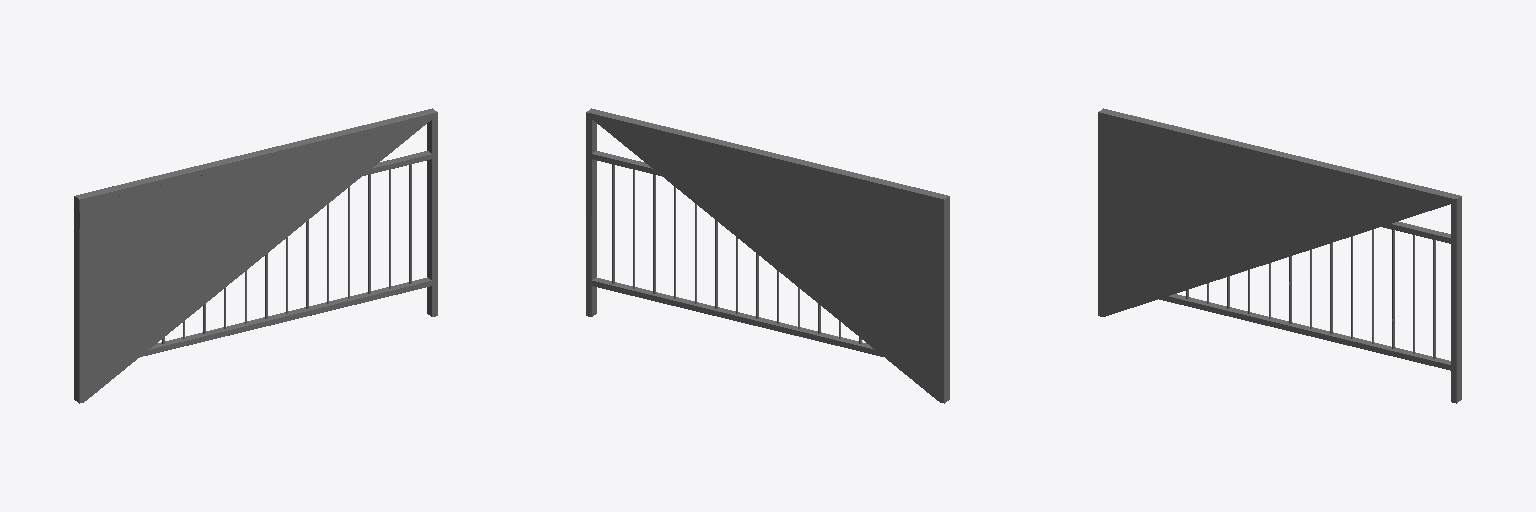
The model's file is pedestrianRailing2.obj.
3 renders of one model, left to right at view 1: azimuth 30°, elevation 25°; view 2: azimuth 150°, elevation 25°; view 3: azimuth 330°, elevation 25°, orthographic.
Visible parts, largest first — view 1: Railings_M2_Cube.028; view 2: Railings_M2_Cube.028; view 3: Railings_M2_Cube.028.
Part boxes in pixels (bbox=[...]): Railings_M2_Cube.028: bbox=[74, 108, 437, 403]; Railings_M2_Cube.028: bbox=[586, 108, 949, 403]; Railings_M2_Cube.028: bbox=[1098, 108, 1461, 403].
Size of the model in its own units: 200 by 109 by 5.